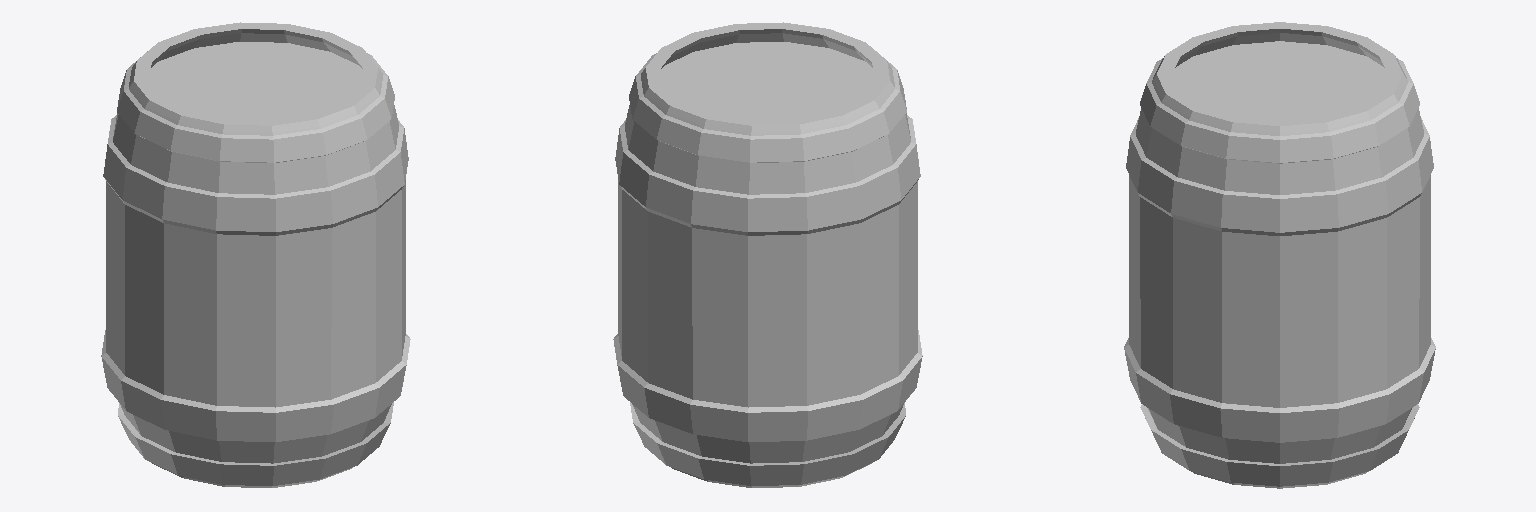
Rendered from Barrel.obj.
3 views of the same model, side by side, from view 1: azimuth 30°, elevation 25°; view 2: azimuth 150°, elevation 25°; view 3: azimuth 270°, elevation 25° (orthographic).
Visible parts, largest first — view 1: Cylinder_Cylinder.001; view 2: Cylinder_Cylinder.001; view 3: Cylinder_Cylinder.001.
Part boxes in pixels (left/top/right/bottom): Cylinder_Cylinder.001: left=101, top=22, right=410, bottom=487; Cylinder_Cylinder.001: left=613, top=22, right=922, bottom=487; Cylinder_Cylinder.001: left=1124, top=22, right=1435, bottom=488.
Size of the model in its own units: 0.6097 by 0.7839 by 0.6097.